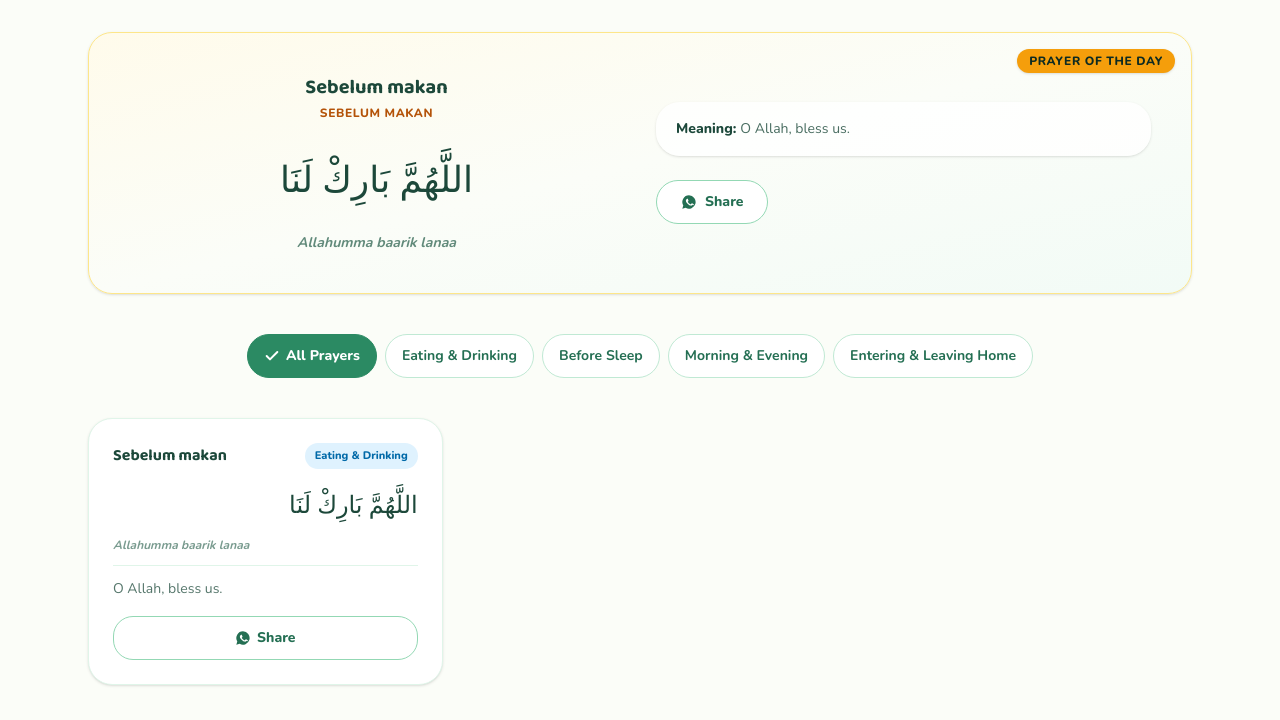
Test case: Bilingual stragglers (I5) › localizes DoaCatalog share-toast category label in EN mode
The width and height of the screenshot is (1280, 720).
Click the button with aria-label "Share Sebelum makan" at (712, 202), box [656, 180, 768, 224]
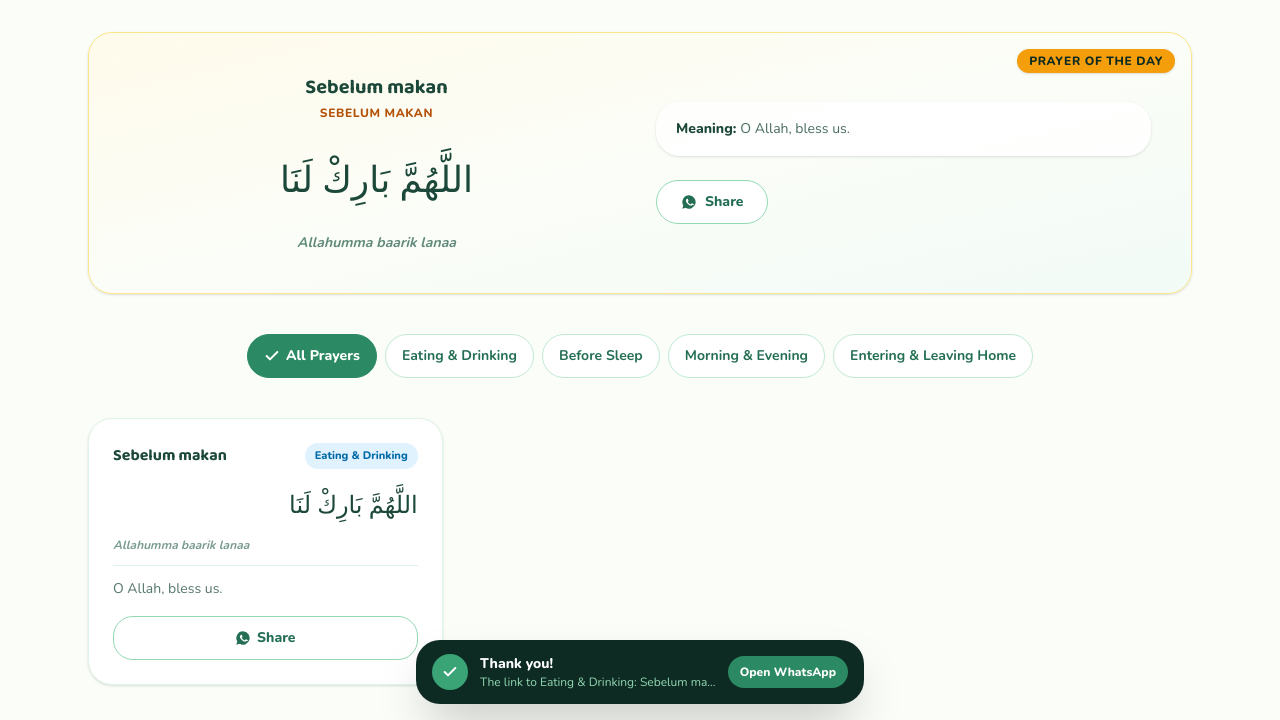
Check: the message does not show "Makan & Minum", box [416, 640, 864, 704]
Check: the message shows "Eating & Drinking", box [480, 674, 821, 690]
